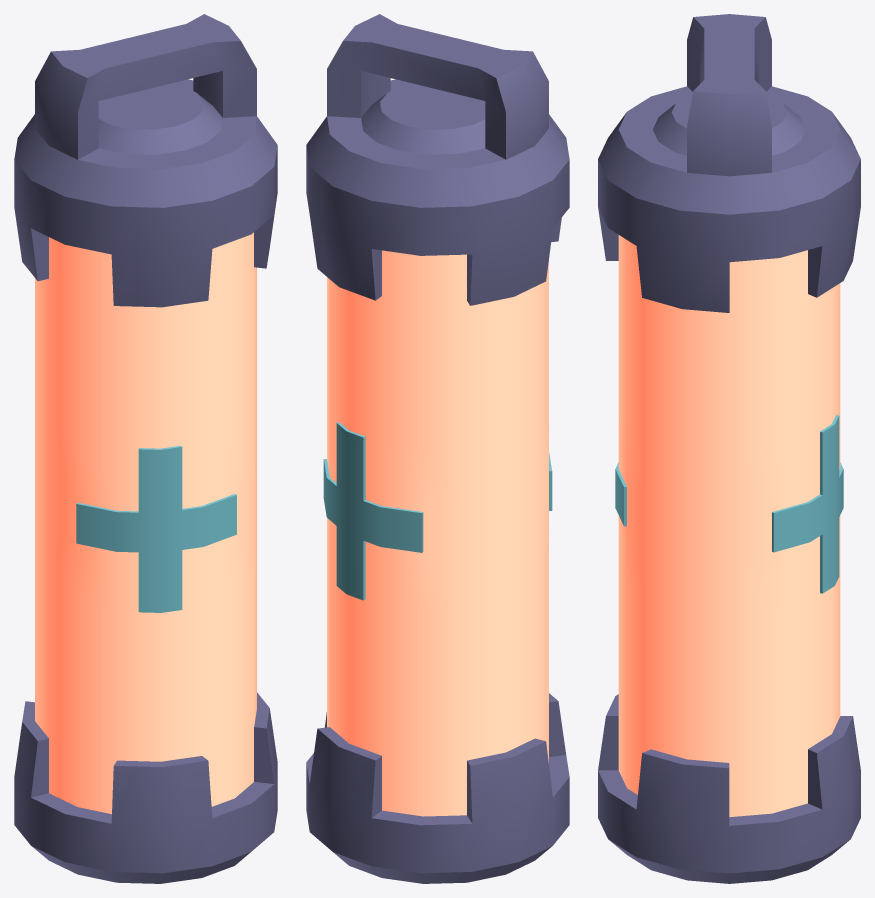
The model's file is small_health (1).fbx.
3 renders of one model, left to right at view 1: azimuth 30°, elevation 25°; view 2: azimuth 150°, elevation 25°; view 3: azimuth 270°, elevation 25°, orthographic.
Visible parts, largest first — view 1: Cylinder; view 2: Cylinder; view 3: Cylinder.
Boxes of the visible parts, x1=… form: Cylinder: x1=14, y1=14, x2=277, y2=883; Cylinder: x1=306, y1=14, x2=569, y2=883; Cylinder: x1=598, y1=14, x2=860, y2=883.
Bounding box in the file's own units: 48.43 × 159 × 48.43.
